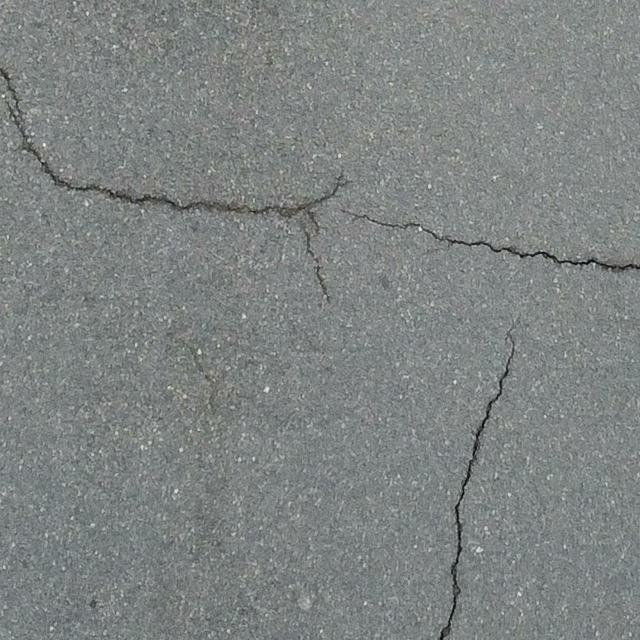LongitudinalCrack: (440, 318, 521, 640)
TransverseCrack: (1, 70, 640, 302)
